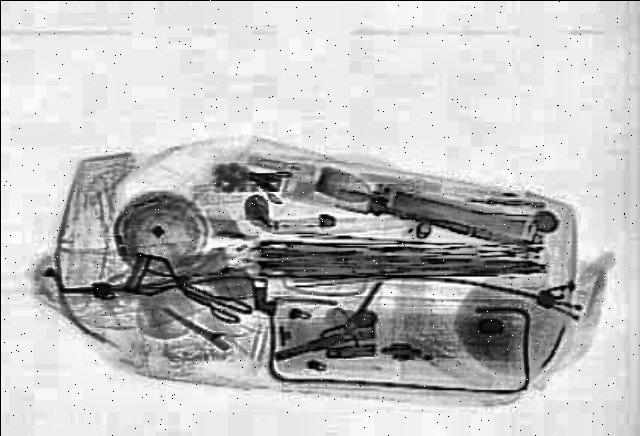Scissors: (179, 286, 255, 326)
